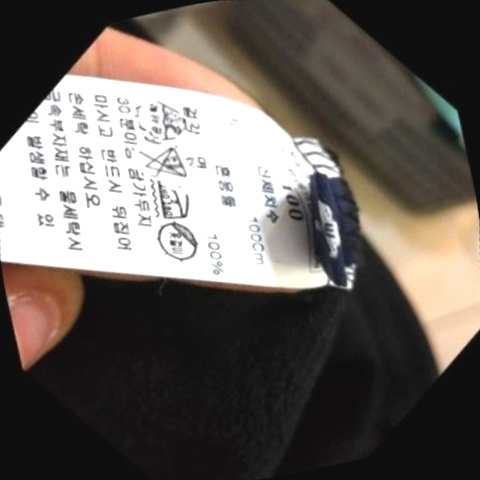hand_wash: (132, 85, 196, 151)
iron_medium: (148, 171, 204, 228)
line_dry_in_shade: (144, 206, 215, 276)
non_chlorine_bleach: (135, 135, 196, 191)
